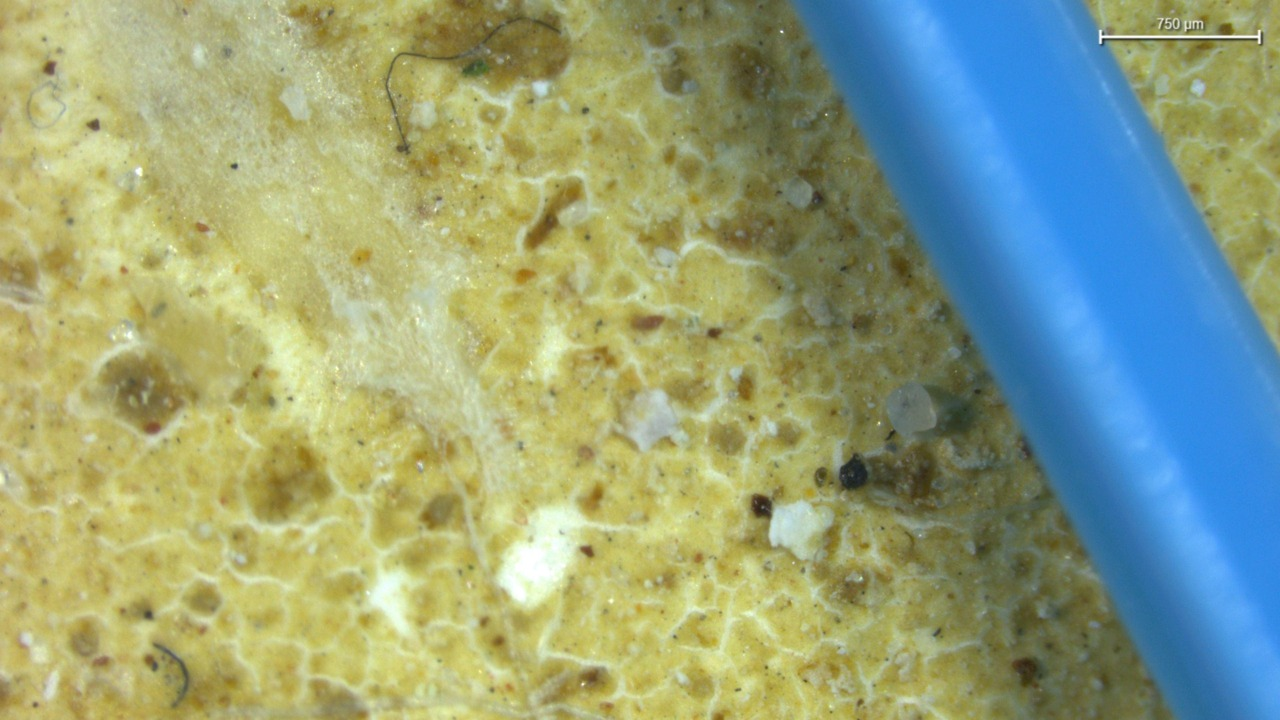microplastic_fragment: (769, 500, 834, 560), (621, 389, 676, 451), (887, 382, 938, 435)
